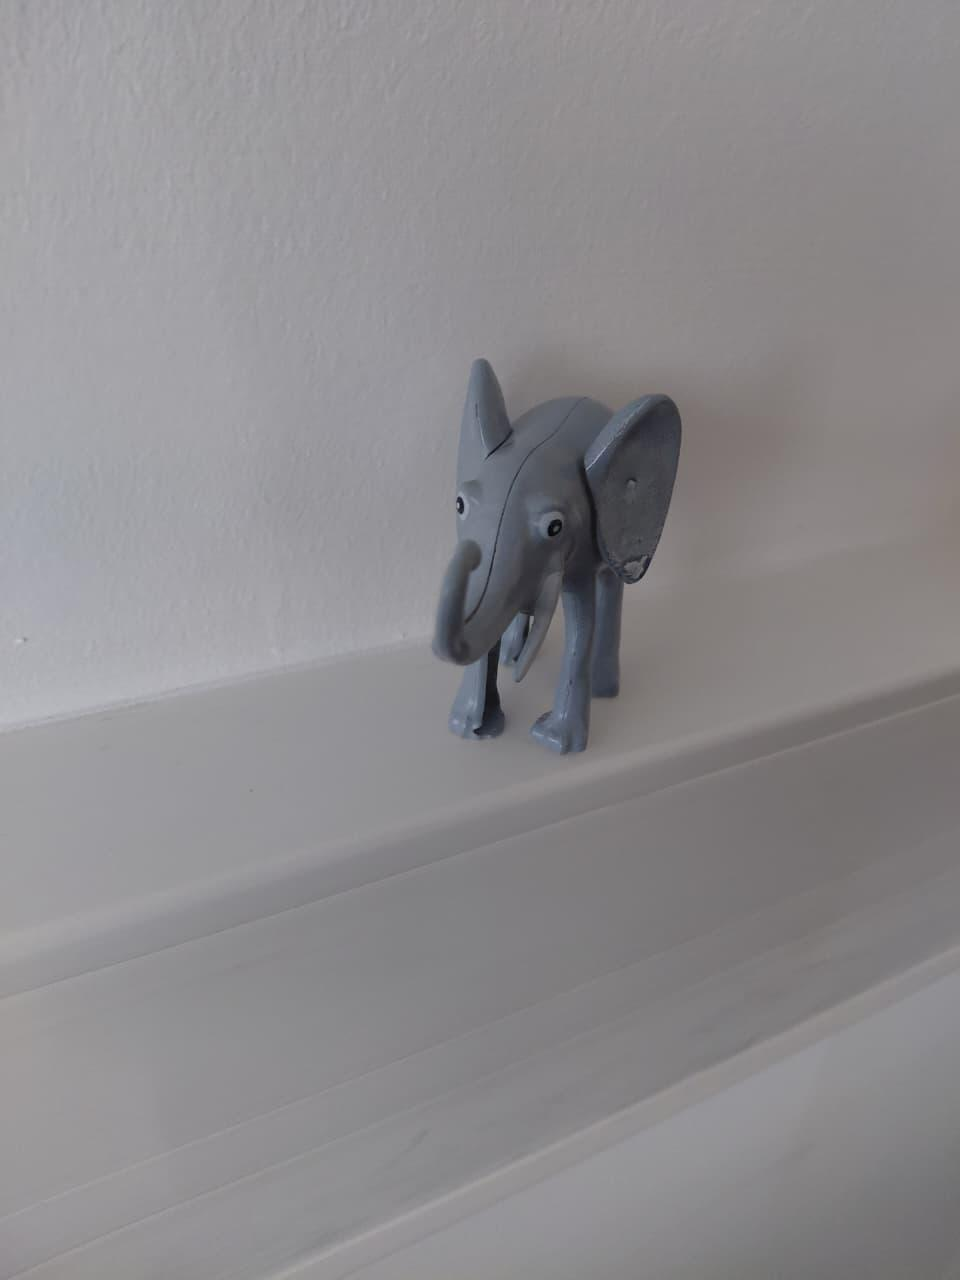elephant: (410, 295, 750, 813)
